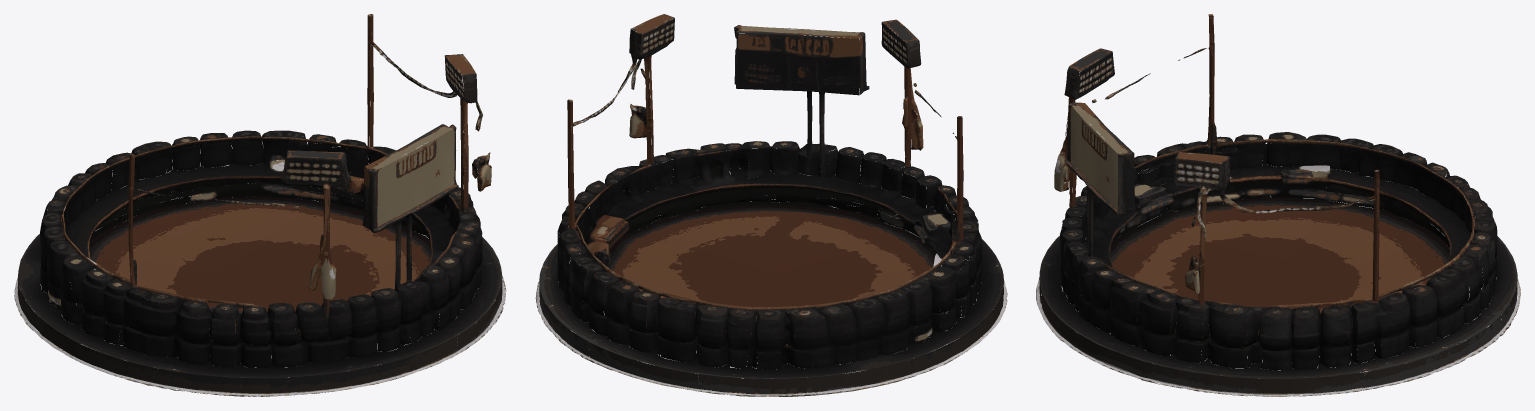
The model's file is arena.glb.
3 renders of one model, left to right at view 1: azimuth 30°, elevation 25°; view 2: azimuth 150°, elevation 25°; view 3: azimuth 270°, elevation 25°, orthographic. The views are drawn at different scales.
Visible parts, largest first — view 1: arena; view 2: arena; view 3: arena.
Boxes of the visible parts, x1,y1,x2,y2 form: arena: (14, 14, 506, 396); arena: (535, 14, 1007, 396); arena: (1036, 14, 1520, 396).
Bounding box in the file's own units: 2.6 × 1.28 × 2.6.
Materials: 1 (1 with a texture image).
